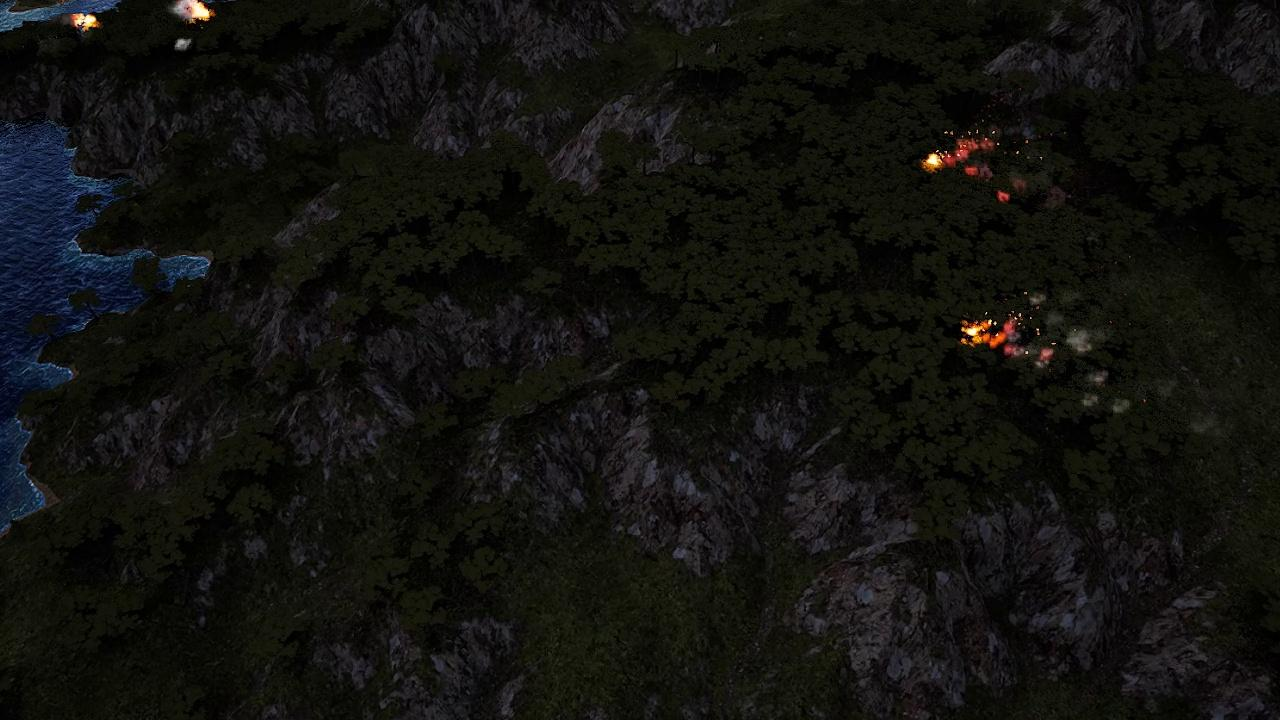fire: (960, 314, 1047, 365), (918, 134, 992, 179), (188, 0, 216, 23), (71, 12, 99, 28)
smoke: (1040, 285, 1133, 420)
